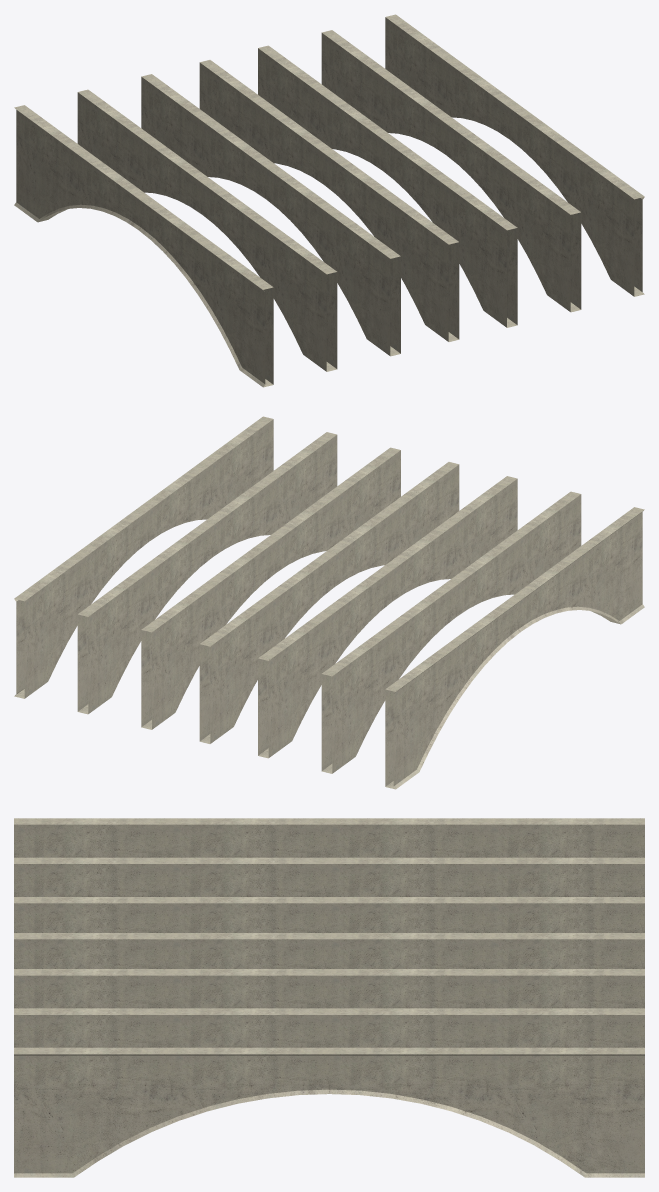
File: BridgeBase6-2L.FBX
3 views of the same model, one above another, from view 1: azimuth 30°, elevation 25°; view 2: azimuth 150°, elevation 25°; view 3: azimuth 270°, elevation 25° (orthographic). The views are drawn at different scales.
Parts seen in each view (by area): view 1: BridgeBase6; view 2: BridgeBase6; view 3: BridgeBase6.
Part boxes in pixels (x1=…): BridgeBase6: x1=14, y1=14, x2=644, y2=387; BridgeBase6: x1=14, y1=416, x2=644, y2=789; BridgeBase6: x1=14, y1=818, x2=644, y2=1177.
Size of the model in its own units: 18 by 4.4 by 20.34.
